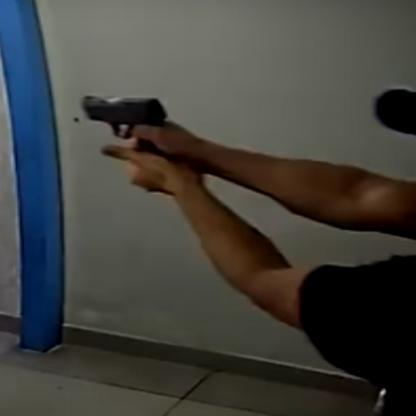weapon: (78, 92, 171, 154)
